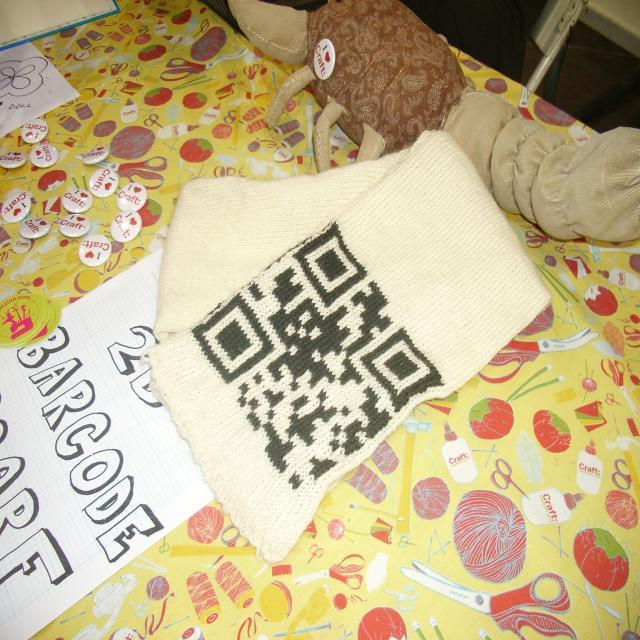qr-code: (192, 223, 444, 498)
